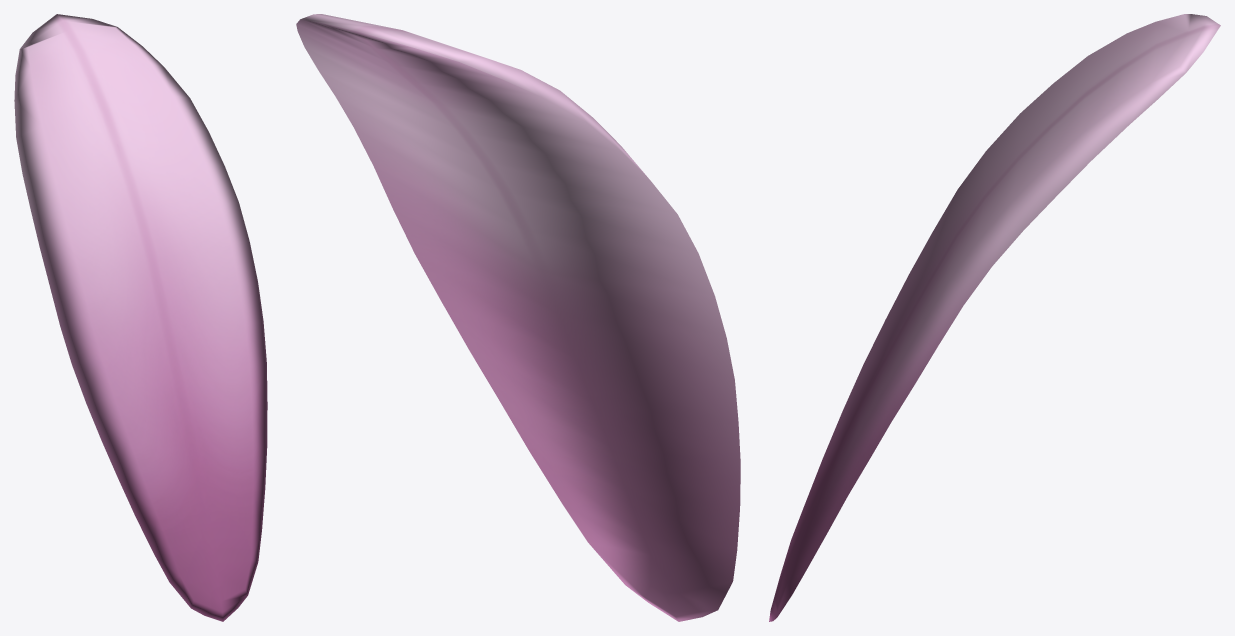
Rendered from petal5.obj.
3 renders of one model, left to right at view 1: azimuth 30°, elevation 25°; view 2: azimuth 150°, elevation 25°; view 3: azimuth 270°, elevation 25°, orthographic. The views are drawn at different scales.
Parts seen in each view (by area): view 1: Object029; view 2: Object029; view 3: Object029.
Part boxes in pixels (x1,y1,x2,y2): Object029: (14, 14, 267, 621); Object029: (296, 14, 740, 621); Object029: (769, 14, 1220, 621).
Size of the model in its own units: 41.81 by 96.78 by 65.66.
